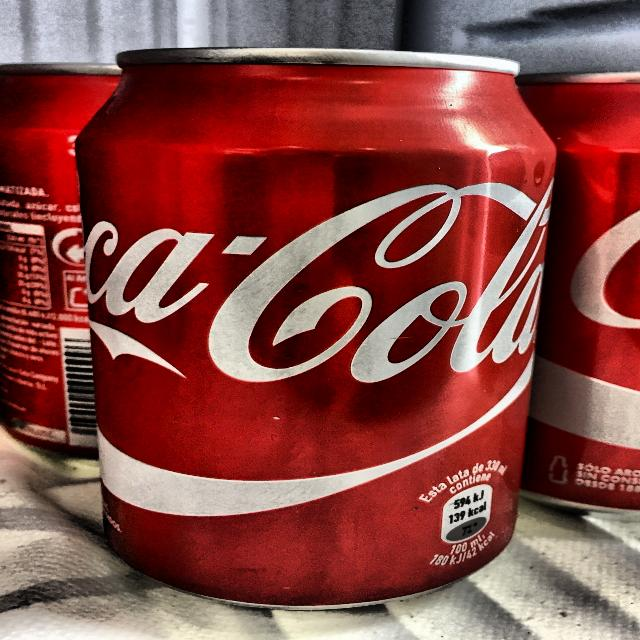Cans: (62, 32, 570, 619)
